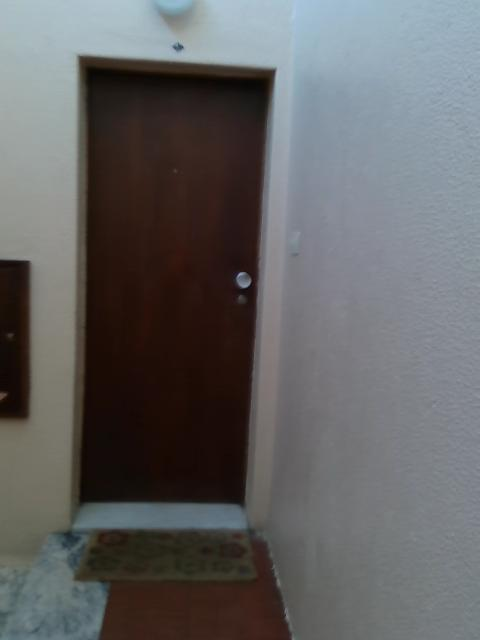door: (83, 66, 268, 504)
